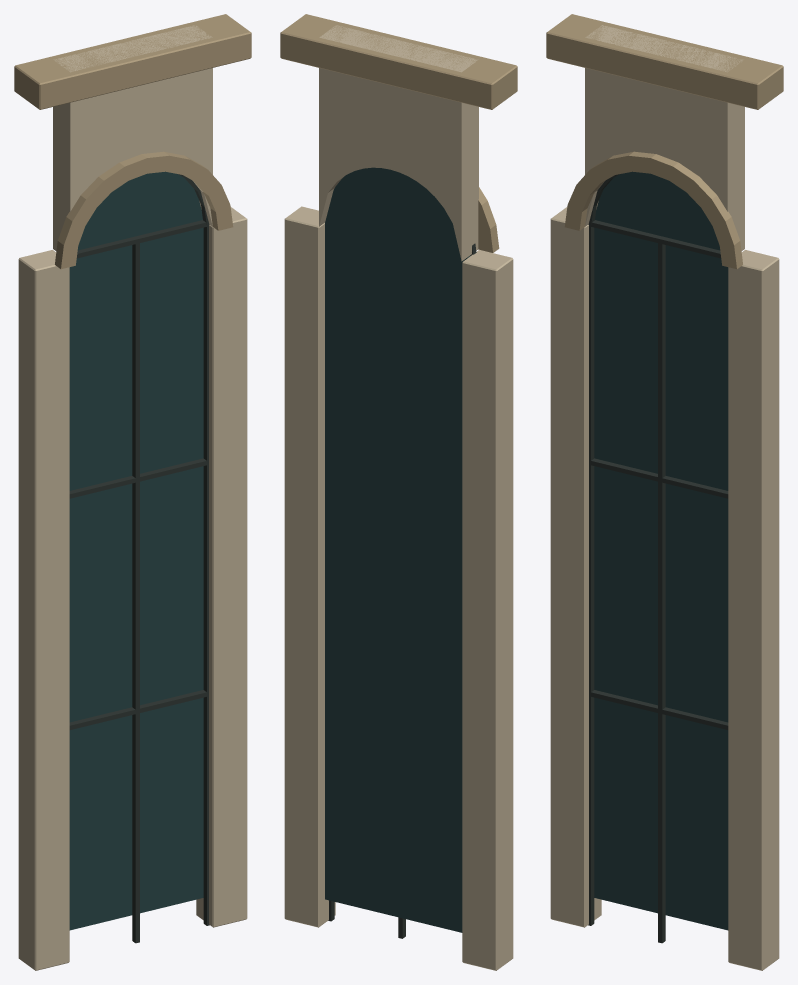
Rendered from lib_wall_arch.glb.
3 renders of one model, left to right at view 1: azimuth 30°, elevation 25°; view 2: azimuth 150°, elevation 25°; view 3: azimuth 330°, elevation 25°, orthographic.
Visible parts, largest first — view 1: wall; view 2: wall; view 3: wall.
Boxes of the visible parts, bbox=[...] form: wall: bbox=[14, 14, 251, 970]; wall: bbox=[280, 14, 517, 970]; wall: bbox=[546, 14, 783, 970].
Size of the model in its own units: 2 by 8 by 0.44.
